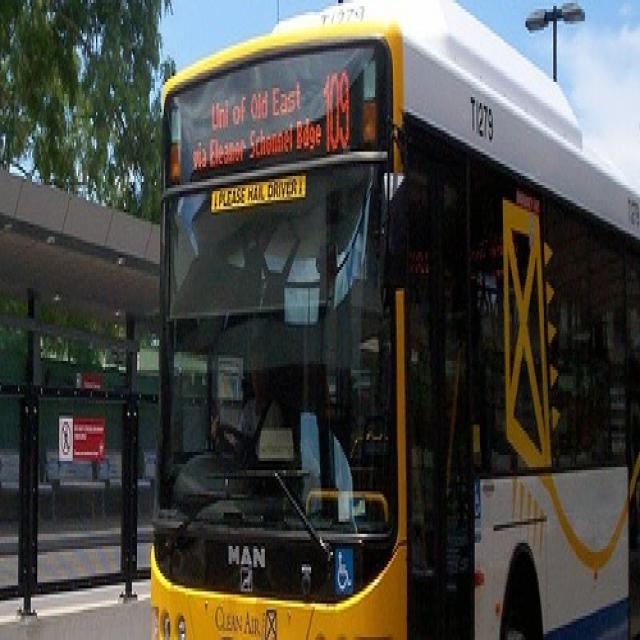bus: (150, 0, 638, 637)
